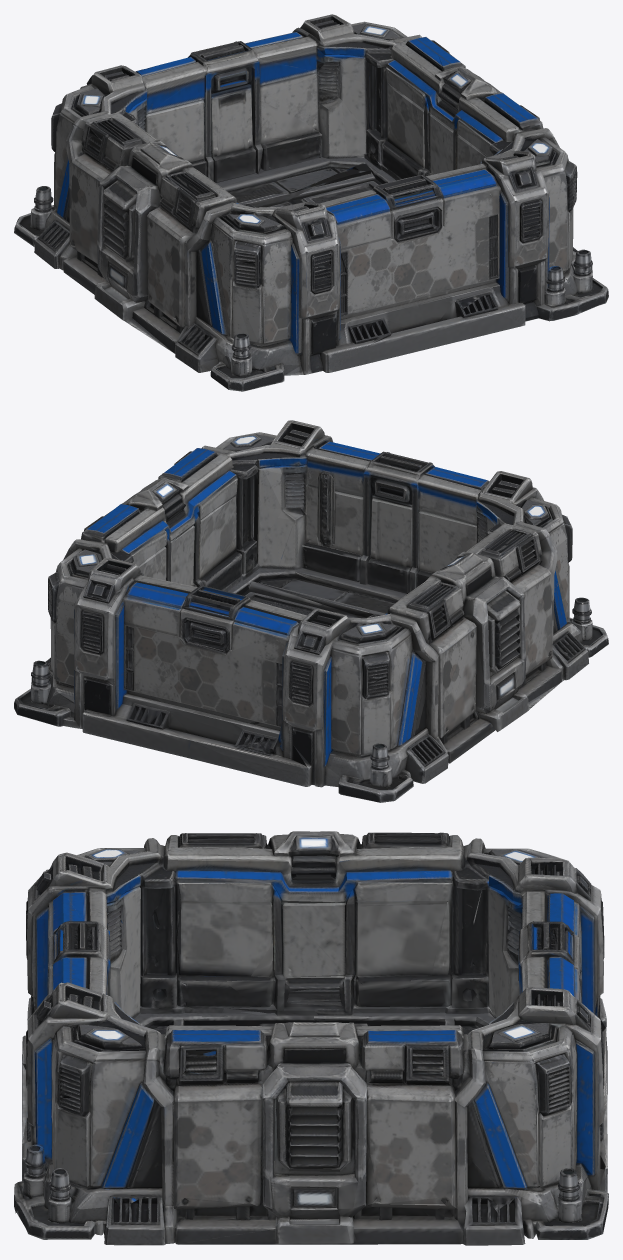
Rendered from Meshy_AI_Crystal_storage_30k_1019182315_texture.fbx.
3 renders of one model, top to bottom at view 1: azimuth 30°, elevation 25°; view 2: azimuth 150°, elevation 25°; view 3: azimuth 270°, elevation 25°, orthographic. The views are drawn at different scales.
Parts seen in each view (by area): view 1: output_unwrapped; view 2: output_unwrapped; view 3: output_unwrapped.
Part boxes in pixels (bbox=[...]): output_unwrapped: bbox=[14, 14, 608, 391]; output_unwrapped: bbox=[14, 420, 608, 802]; output_unwrapped: bbox=[14, 831, 608, 1245].
Size of the model in its own units: 190 by 68.67 by 188.
Materials: 1 (1 with a texture image).
